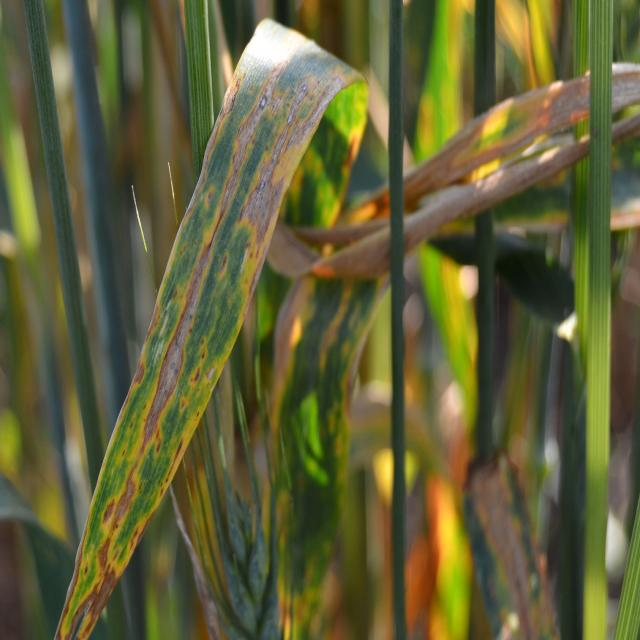wheat-septoria: (51, 19, 365, 640)
